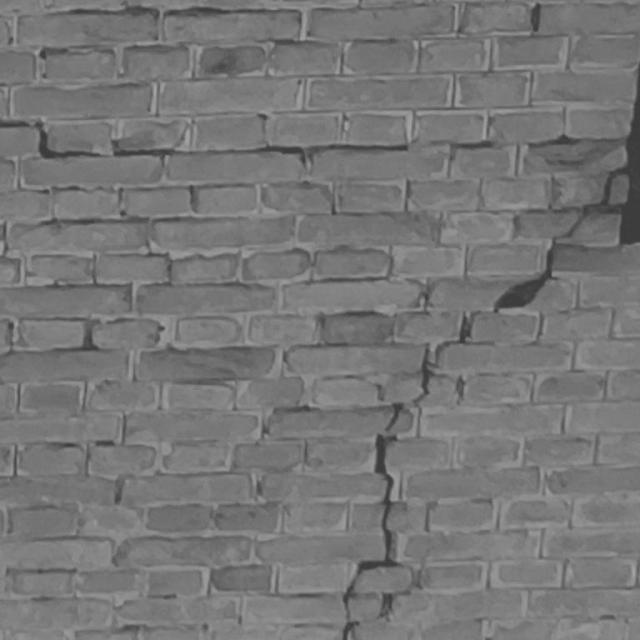crack: (343, 166, 629, 640), (1, 119, 580, 172)
